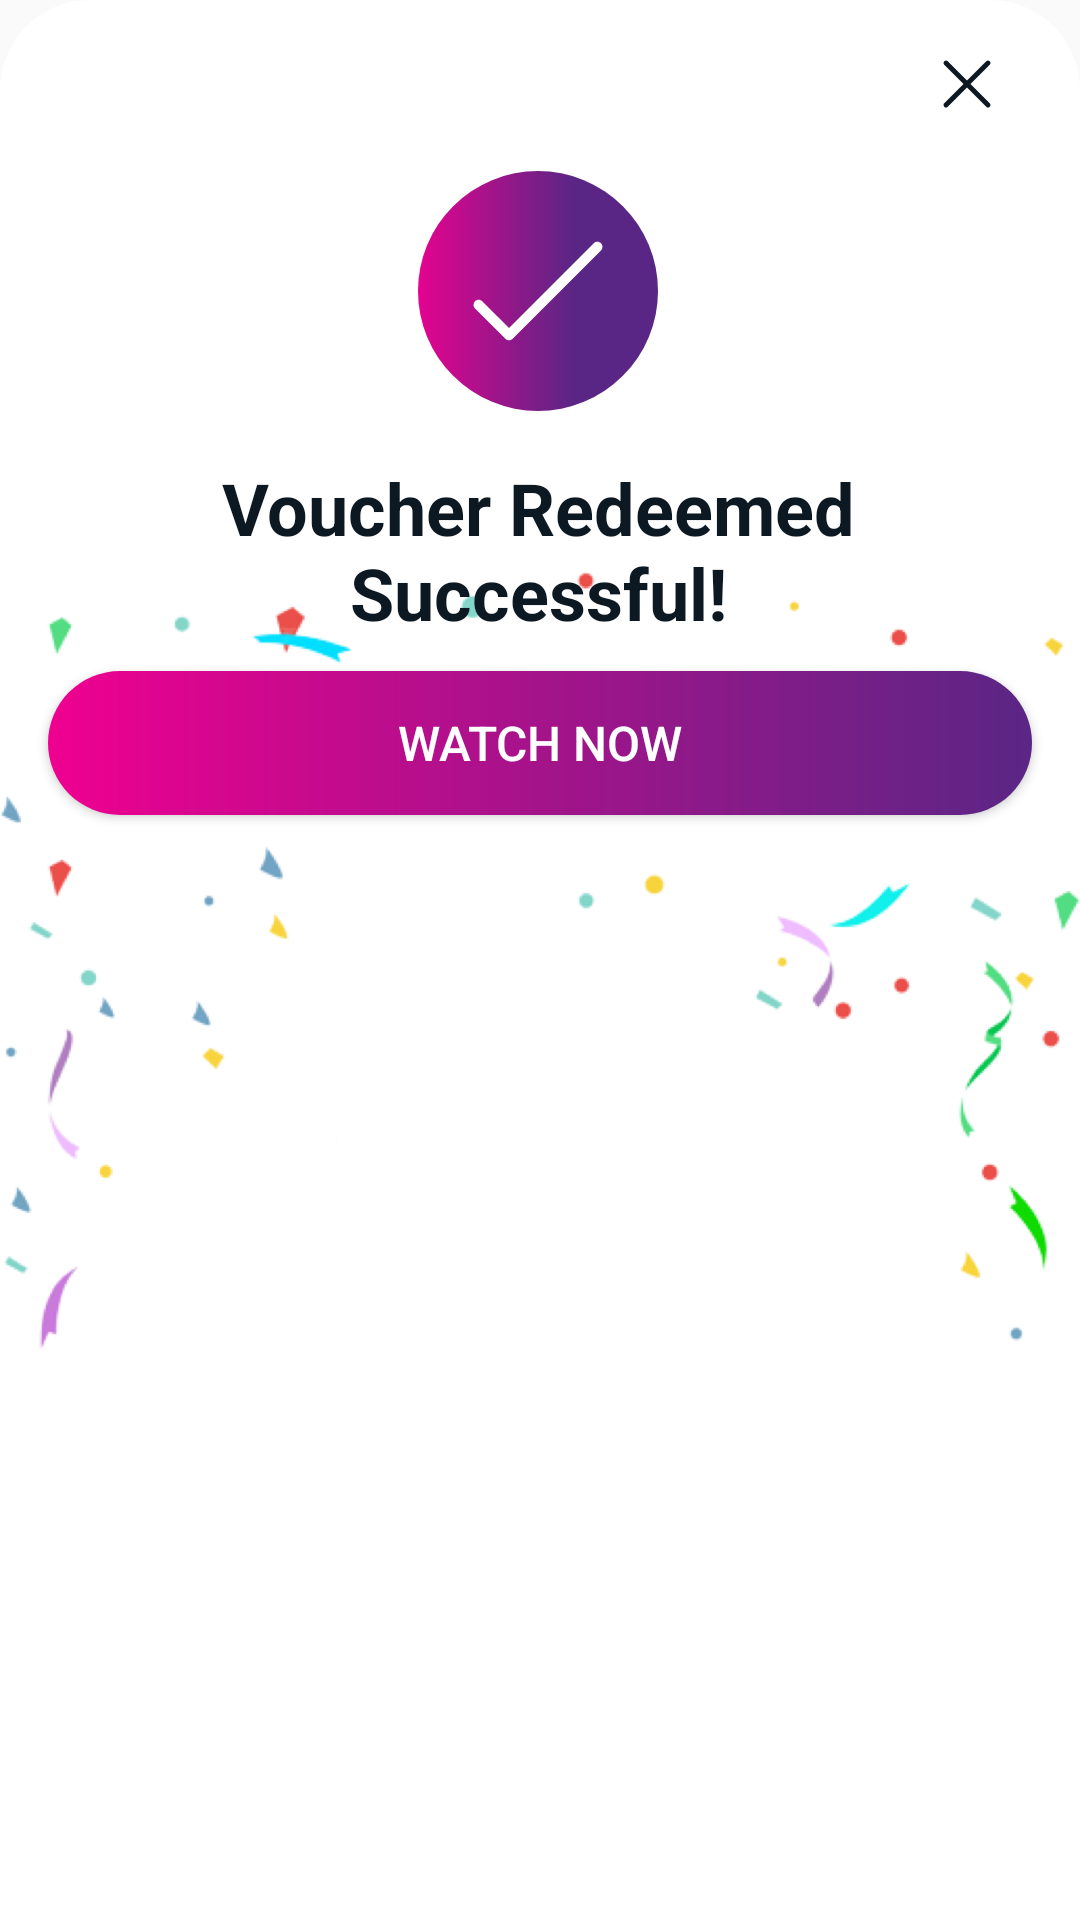

Icon click points for this 1080px x 1920px phone screenshot, format (x=x, y=y):
cancel: (x=967, y=84)
payment successful: (x=538, y=291)
